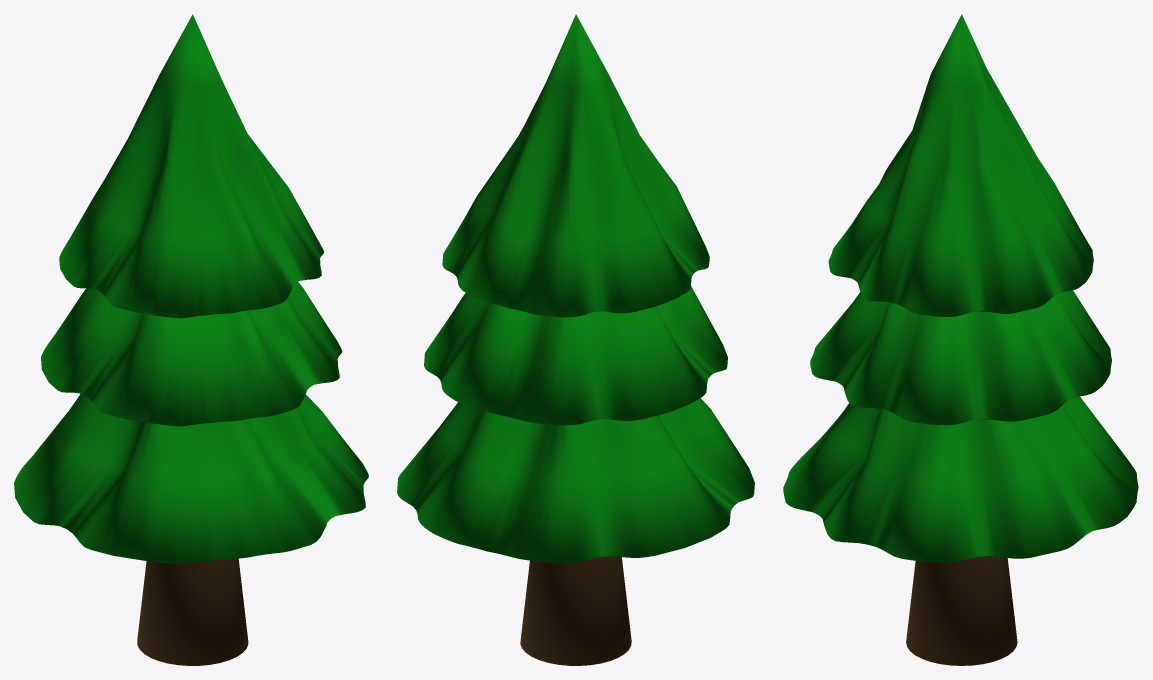
File: Foliage_Tree_2.fbx
3 views of the same model, side by side, from view 1: azimuth 30°, elevation 25°; view 2: azimuth 150°, elevation 25°; view 3: azimuth 270°, elevation 25° (orthographic).
Parts seen in each view (by area): view 1: Tree_2; view 2: Tree_2; view 3: Tree_2.
Boxes of the visible parts, x1,y1,x2,y2 form: Tree_2: (14, 14, 368, 665); Tree_2: (397, 14, 754, 665); Tree_2: (783, 14, 1138, 665).
Size of the model in its own units: 102 by 200 by 102.
